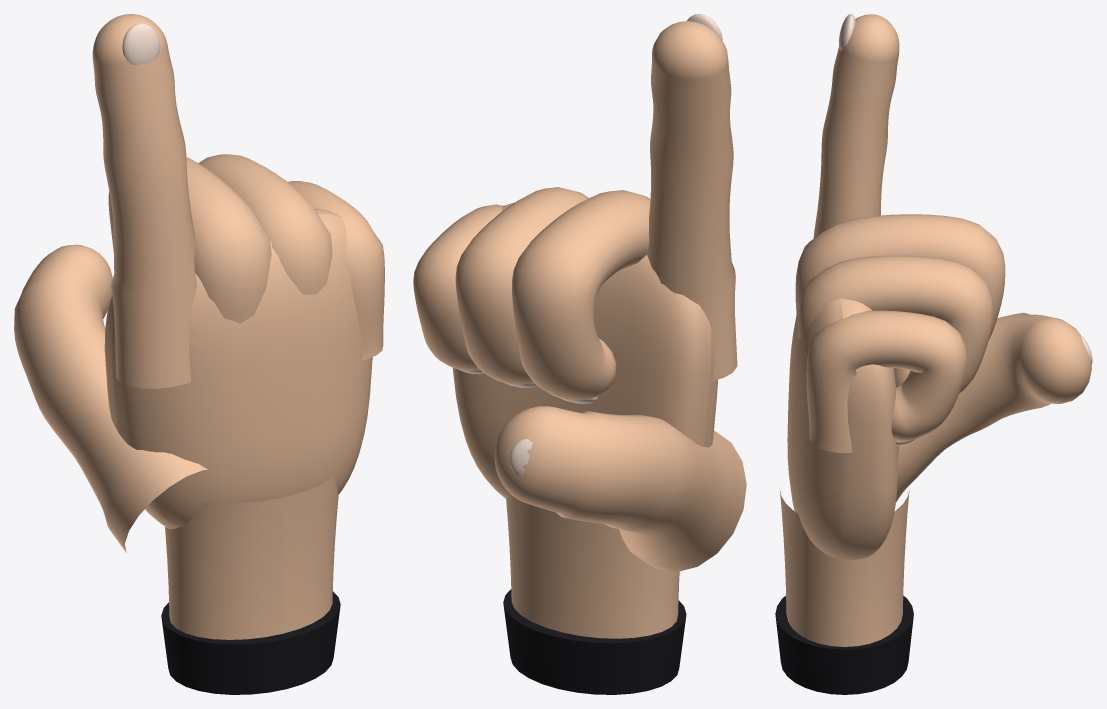
The model's file is hand-right-point.glb.
3 views of the same model, side by side, from view 1: azimuth 30°, elevation 25°; view 2: azimuth 150°, elevation 25°; view 3: azimuth 270°, elevation 25° (orthographic). The views are drawn at different scales.
Parts seen in each view (by area): view 1: hand-right-point; view 2: hand-right-point; view 3: hand-right-point.
Boxes of the visible parts, x1,y1,x2,y2 form: hand-right-point: (14, 14, 384, 694); hand-right-point: (413, 14, 746, 694); hand-right-point: (775, 14, 1092, 694).
Size of the model in its own units: 0.0862 by 0.1993 by 0.0957.
